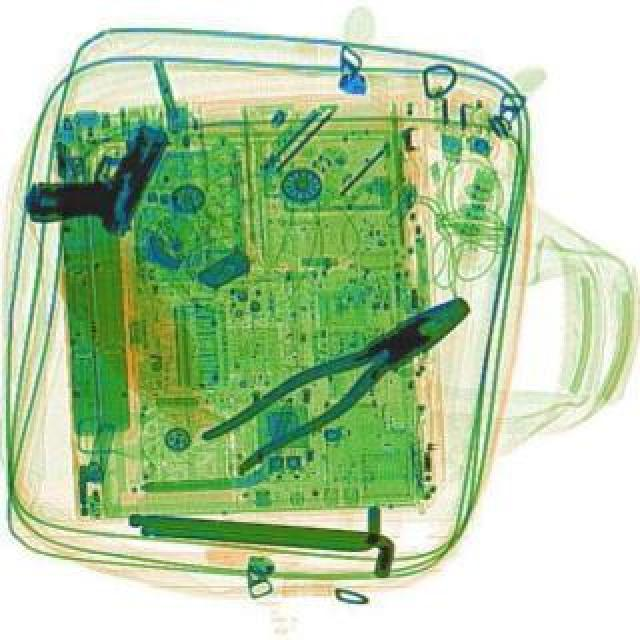gun: (12, 94, 176, 258)
wrench: (196, 278, 480, 482)
